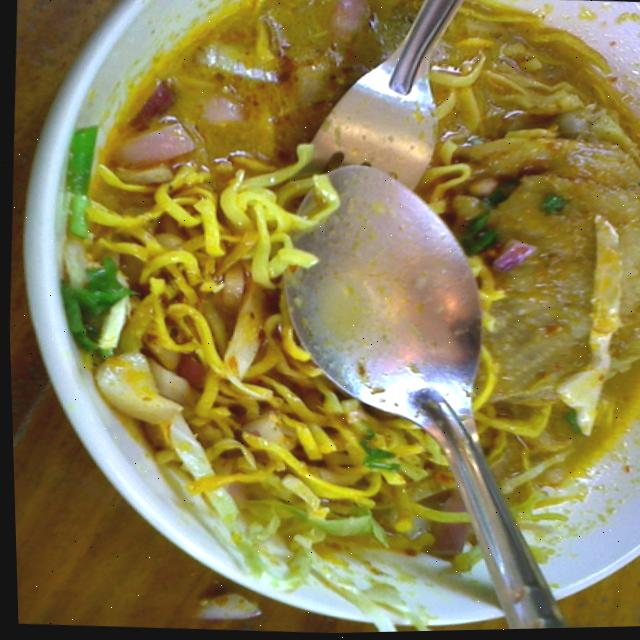面条主食: (31, 0, 640, 615)
